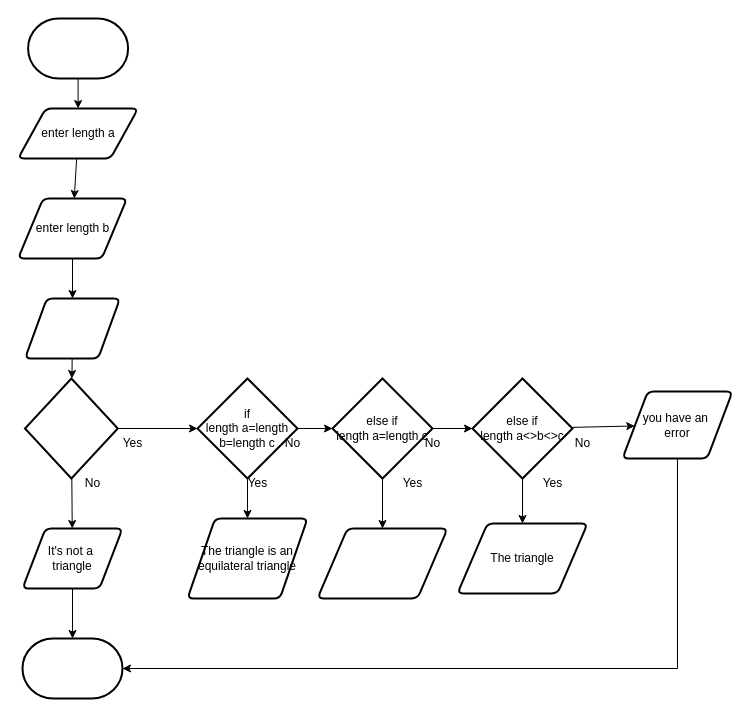
Some shapes in this 751 by 716 pixel diagram are drawn without their labels. The shapes that lost their labels are listed below. From the top down, each one's centre as x and y in pixels, then its label:
the point at 78,48: Start
the point at 72,328: enter length c
the point at 71,428: if triangle ==180 degrees
the point at 382,563: The triangle is Isosceles
the point at 72,668: Stop
